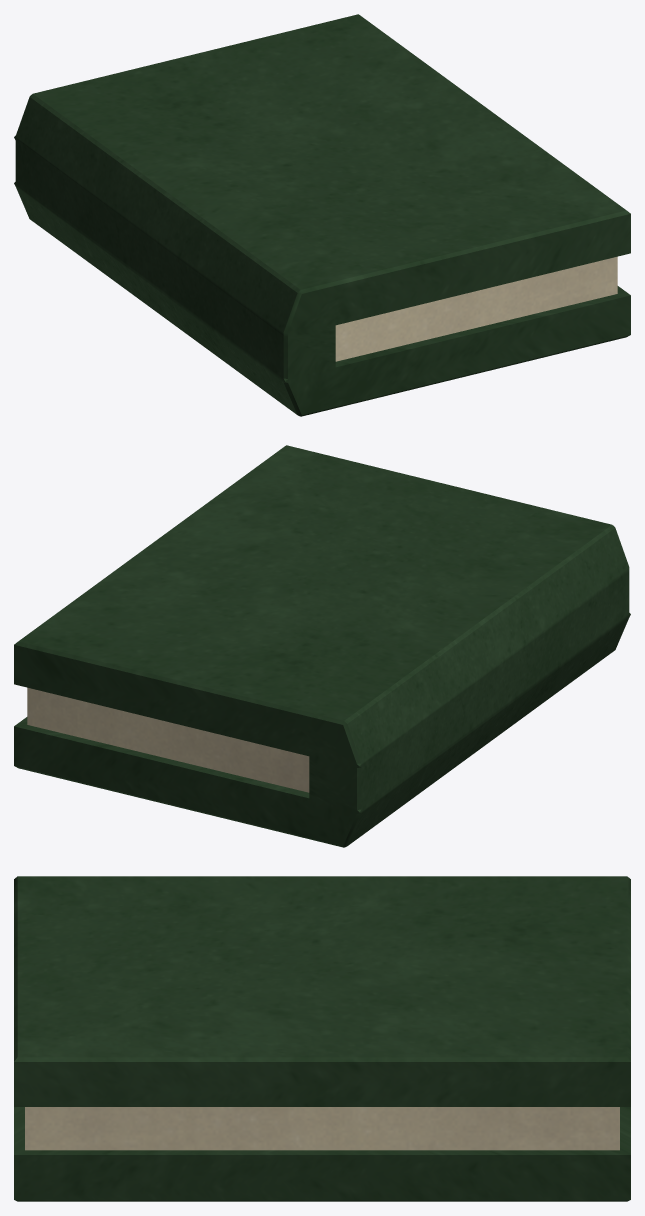
The model's file is SV_book(G).fbx.
3 renders of one model, top to bottom at view 1: azimuth 30°, elevation 25°; view 2: azimuth 150°, elevation 25°; view 3: azimuth 270°, elevation 25°, orthographic. The views are drawn at different scales.
Visible parts, largest first — view 1: pCube156; view 2: pCube156; view 3: pCube156.
Part boxes in pixels (x1,y1,x2,y2): pCube156: [14, 14, 630, 416]; pCube156: [14, 445, 630, 847]; pCube156: [14, 876, 630, 1201].
Size of the model in its own units: 36.28 by 12.72 by 49.29.
1 material, 1 textured.
